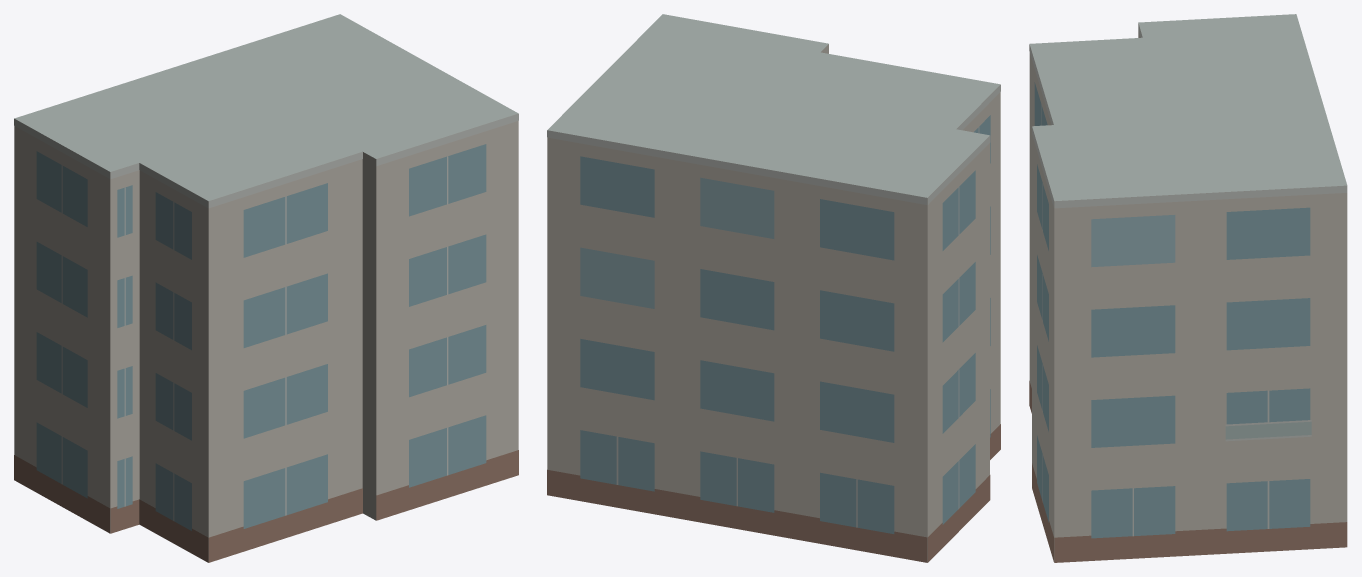
Rendered from residential-57bd60c5-f951-4429-bc05-8710afeb496e.glb.
3 views of the same model, side by side, from view 1: azimuth 30°, elevation 25°; view 2: azimuth 150°, elevation 25°; view 3: azimuth 270°, elevation 25° (orthographic).
Visible parts, largest first — view 1: residential-57bd60c5-f951-4429-bc05-8710afeb496e.tmp; view 2: residential-57bd60c5-f951-4429-bc05-8710afeb496e.tmp; view 3: residential-57bd60c5-f951-4429-bc05-8710afeb496e.tmp.
Boxes of the visible parts, x1,y1,x2,y2 form: residential-57bd60c5-f951-4429-bc05-8710afeb496e.tmp: (14, 14, 518, 562); residential-57bd60c5-f951-4429-bc05-8710afeb496e.tmp: (547, 14, 1000, 562); residential-57bd60c5-f951-4429-bc05-8710afeb496e.tmp: (1029, 14, 1347, 562).
Size of the model in its own units: 13.55 by 12.2 by 9.73.
